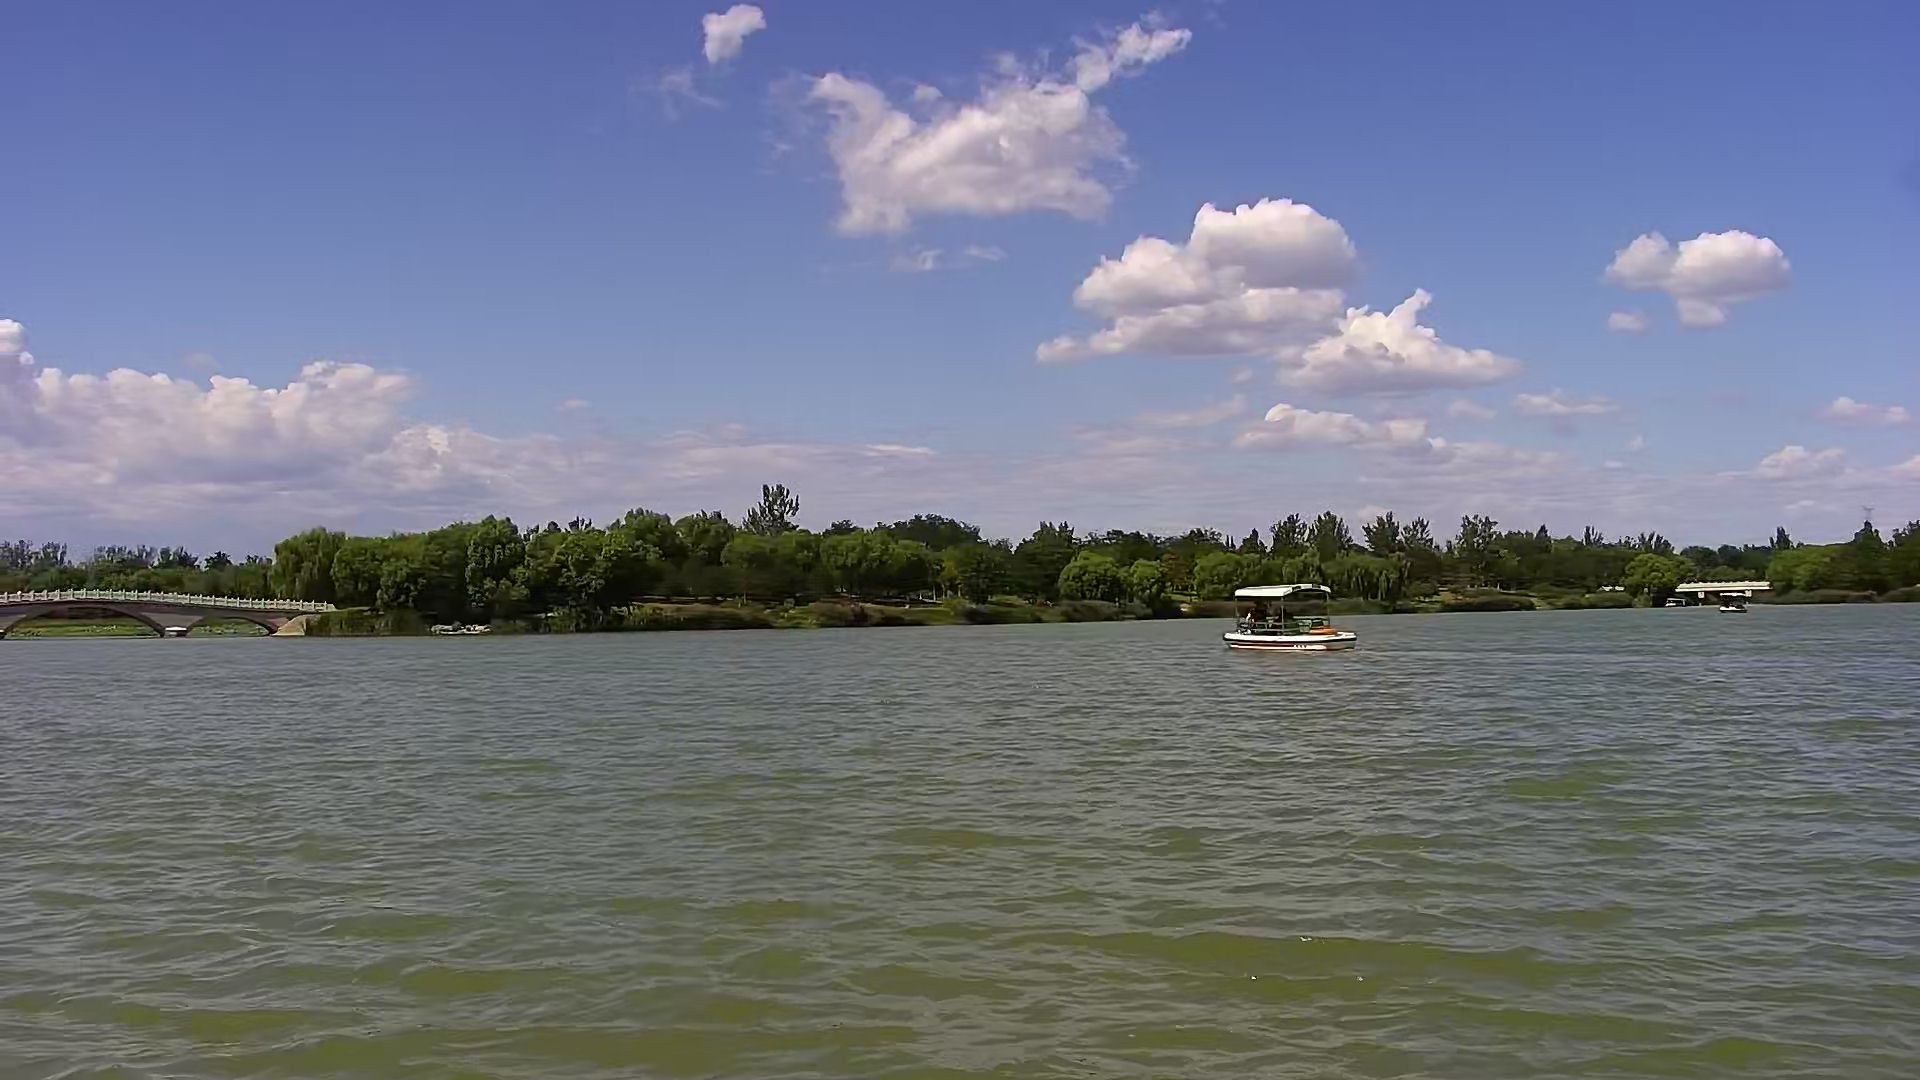boat: (1226, 585, 1360, 650)
bridge: (3, 587, 306, 646), (1673, 580, 1768, 604)
